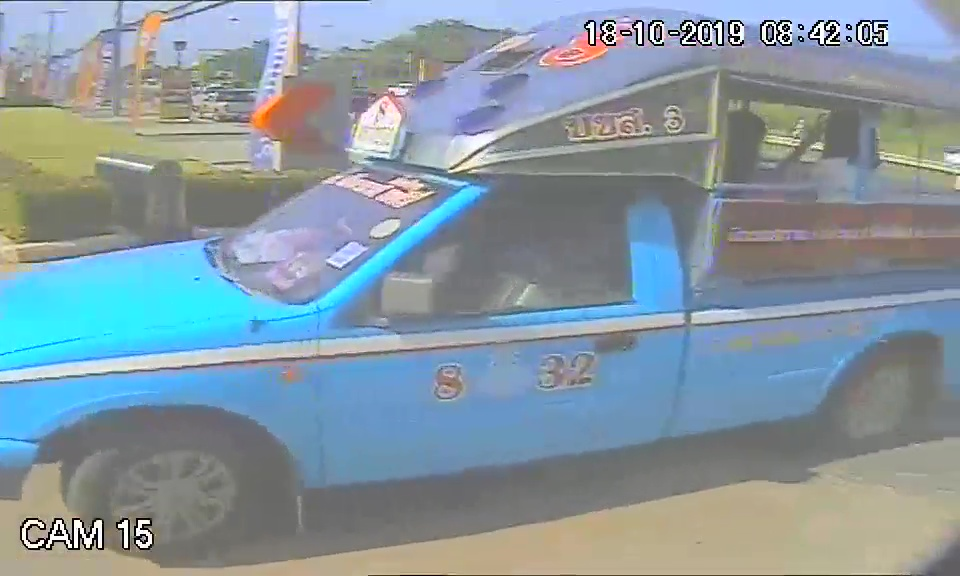pickup: (4, 154, 959, 516)
